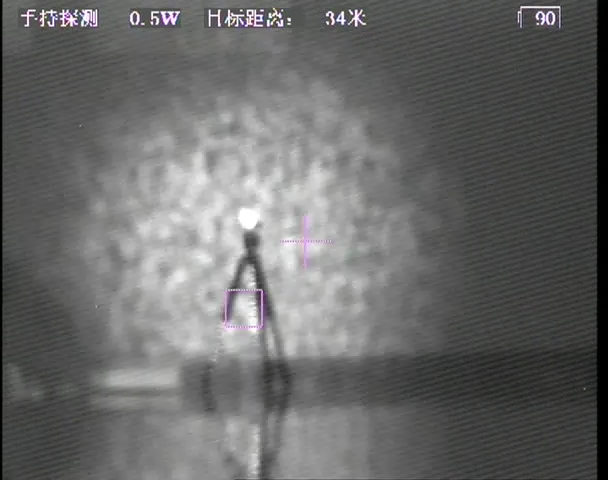my: (237, 207, 259, 230)
